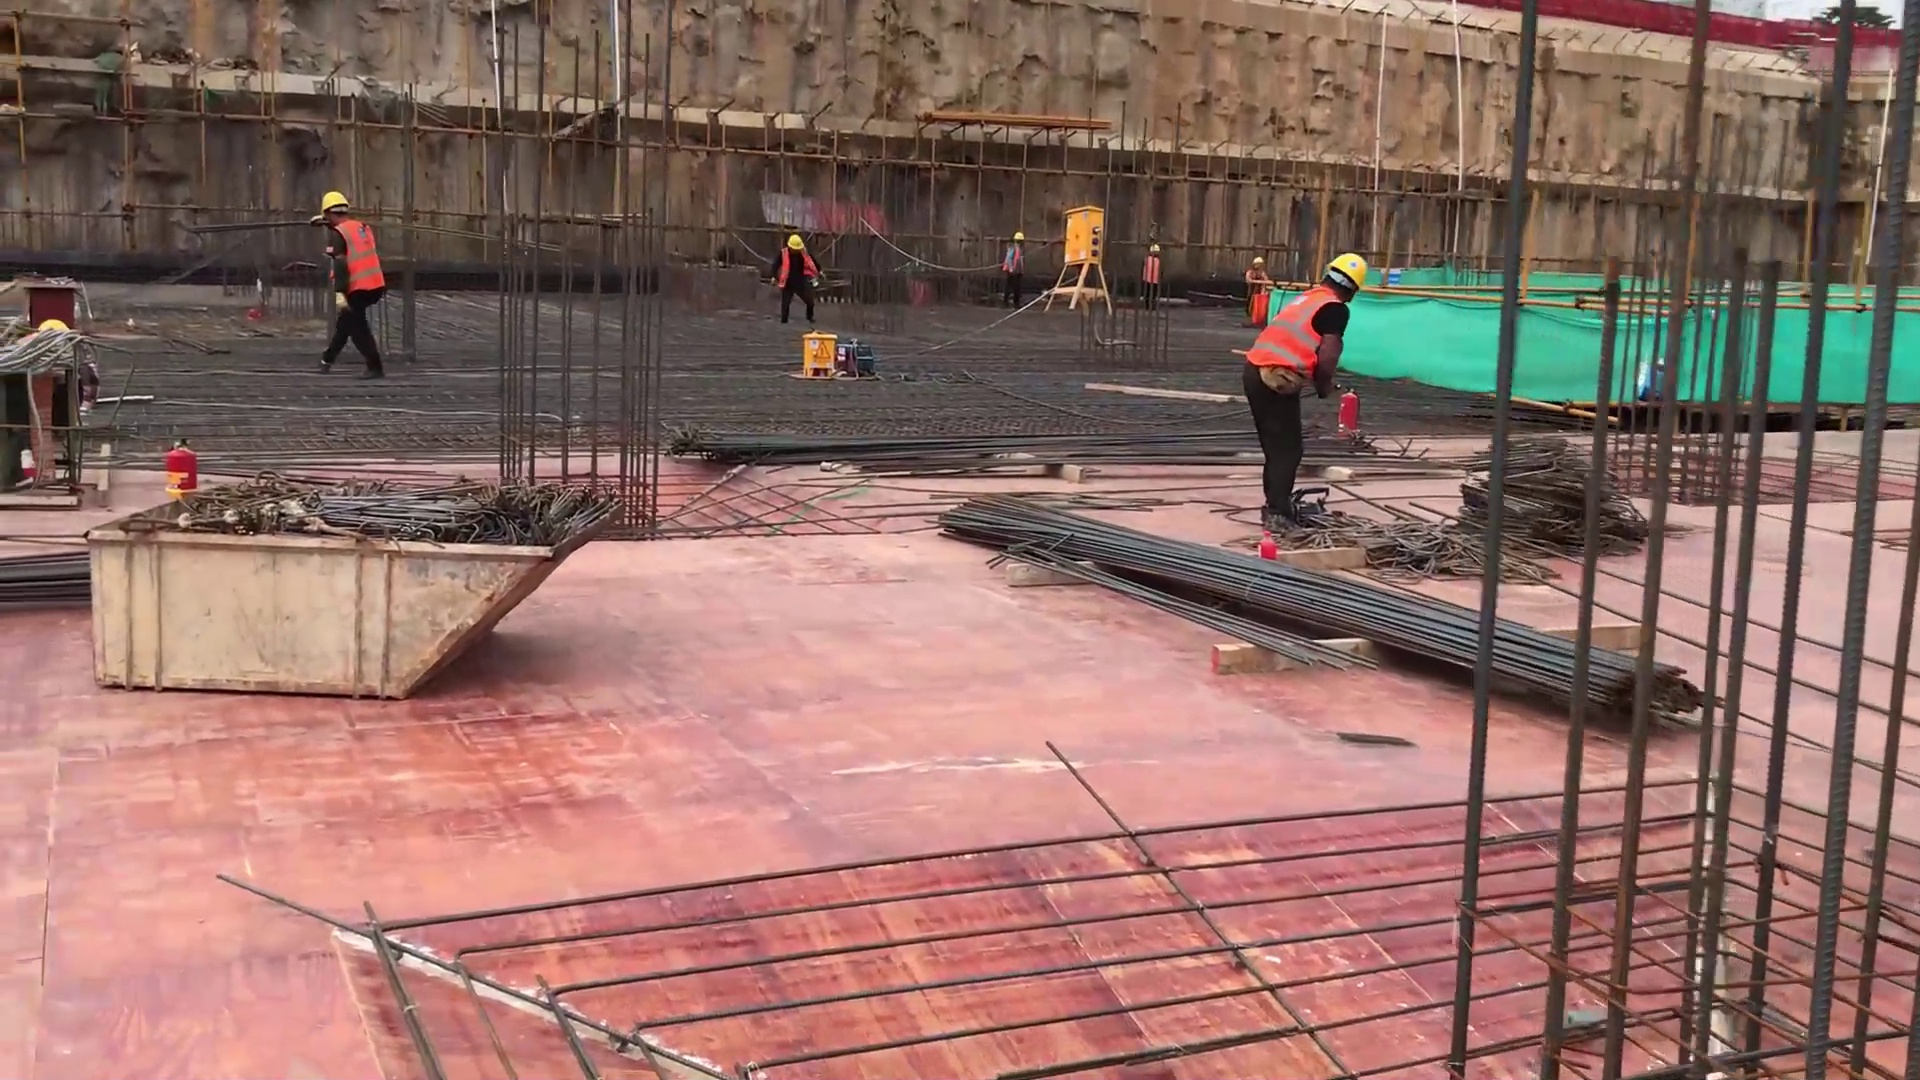ebox: (1066, 212, 1109, 271), (799, 326, 839, 366)
helmet: (1331, 246, 1369, 291), (317, 189, 352, 206), (784, 234, 813, 250), (1015, 230, 1026, 243), (1253, 258, 1262, 269), (1150, 244, 1161, 252)
hopper: (103, 447, 571, 709)
person: (1239, 243, 1361, 543), (284, 183, 411, 370), (738, 235, 856, 325), (989, 223, 1061, 338), (1123, 220, 1183, 321), (1236, 248, 1279, 303)
rebar: (948, 483, 1730, 748), (680, 411, 1428, 488)
vest: (1253, 290, 1339, 368), (327, 220, 393, 289), (780, 252, 812, 285), (1145, 256, 1162, 285), (1007, 246, 1023, 275), (1247, 270, 1265, 289)
